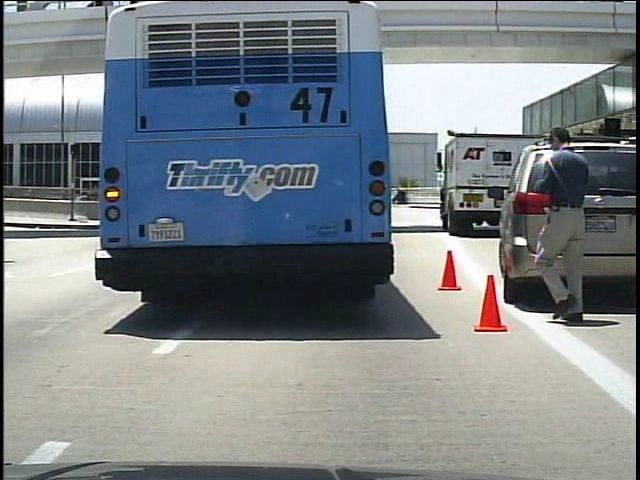person: (512, 119, 598, 334)
